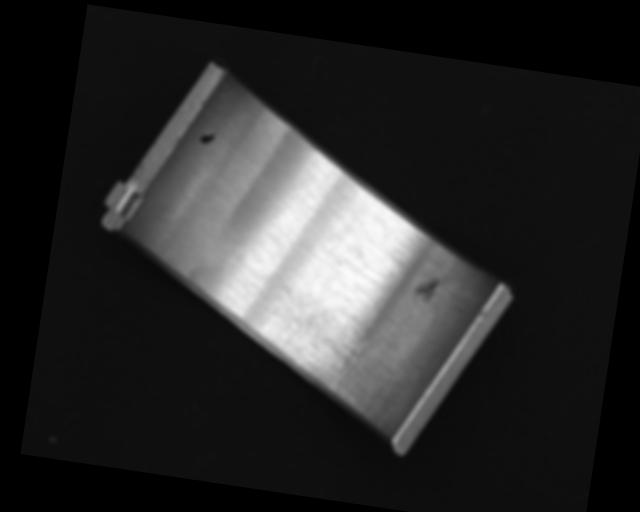blot: (198, 129, 216, 146)
bruise: (411, 276, 441, 304)
scratch: (263, 300, 384, 414)
